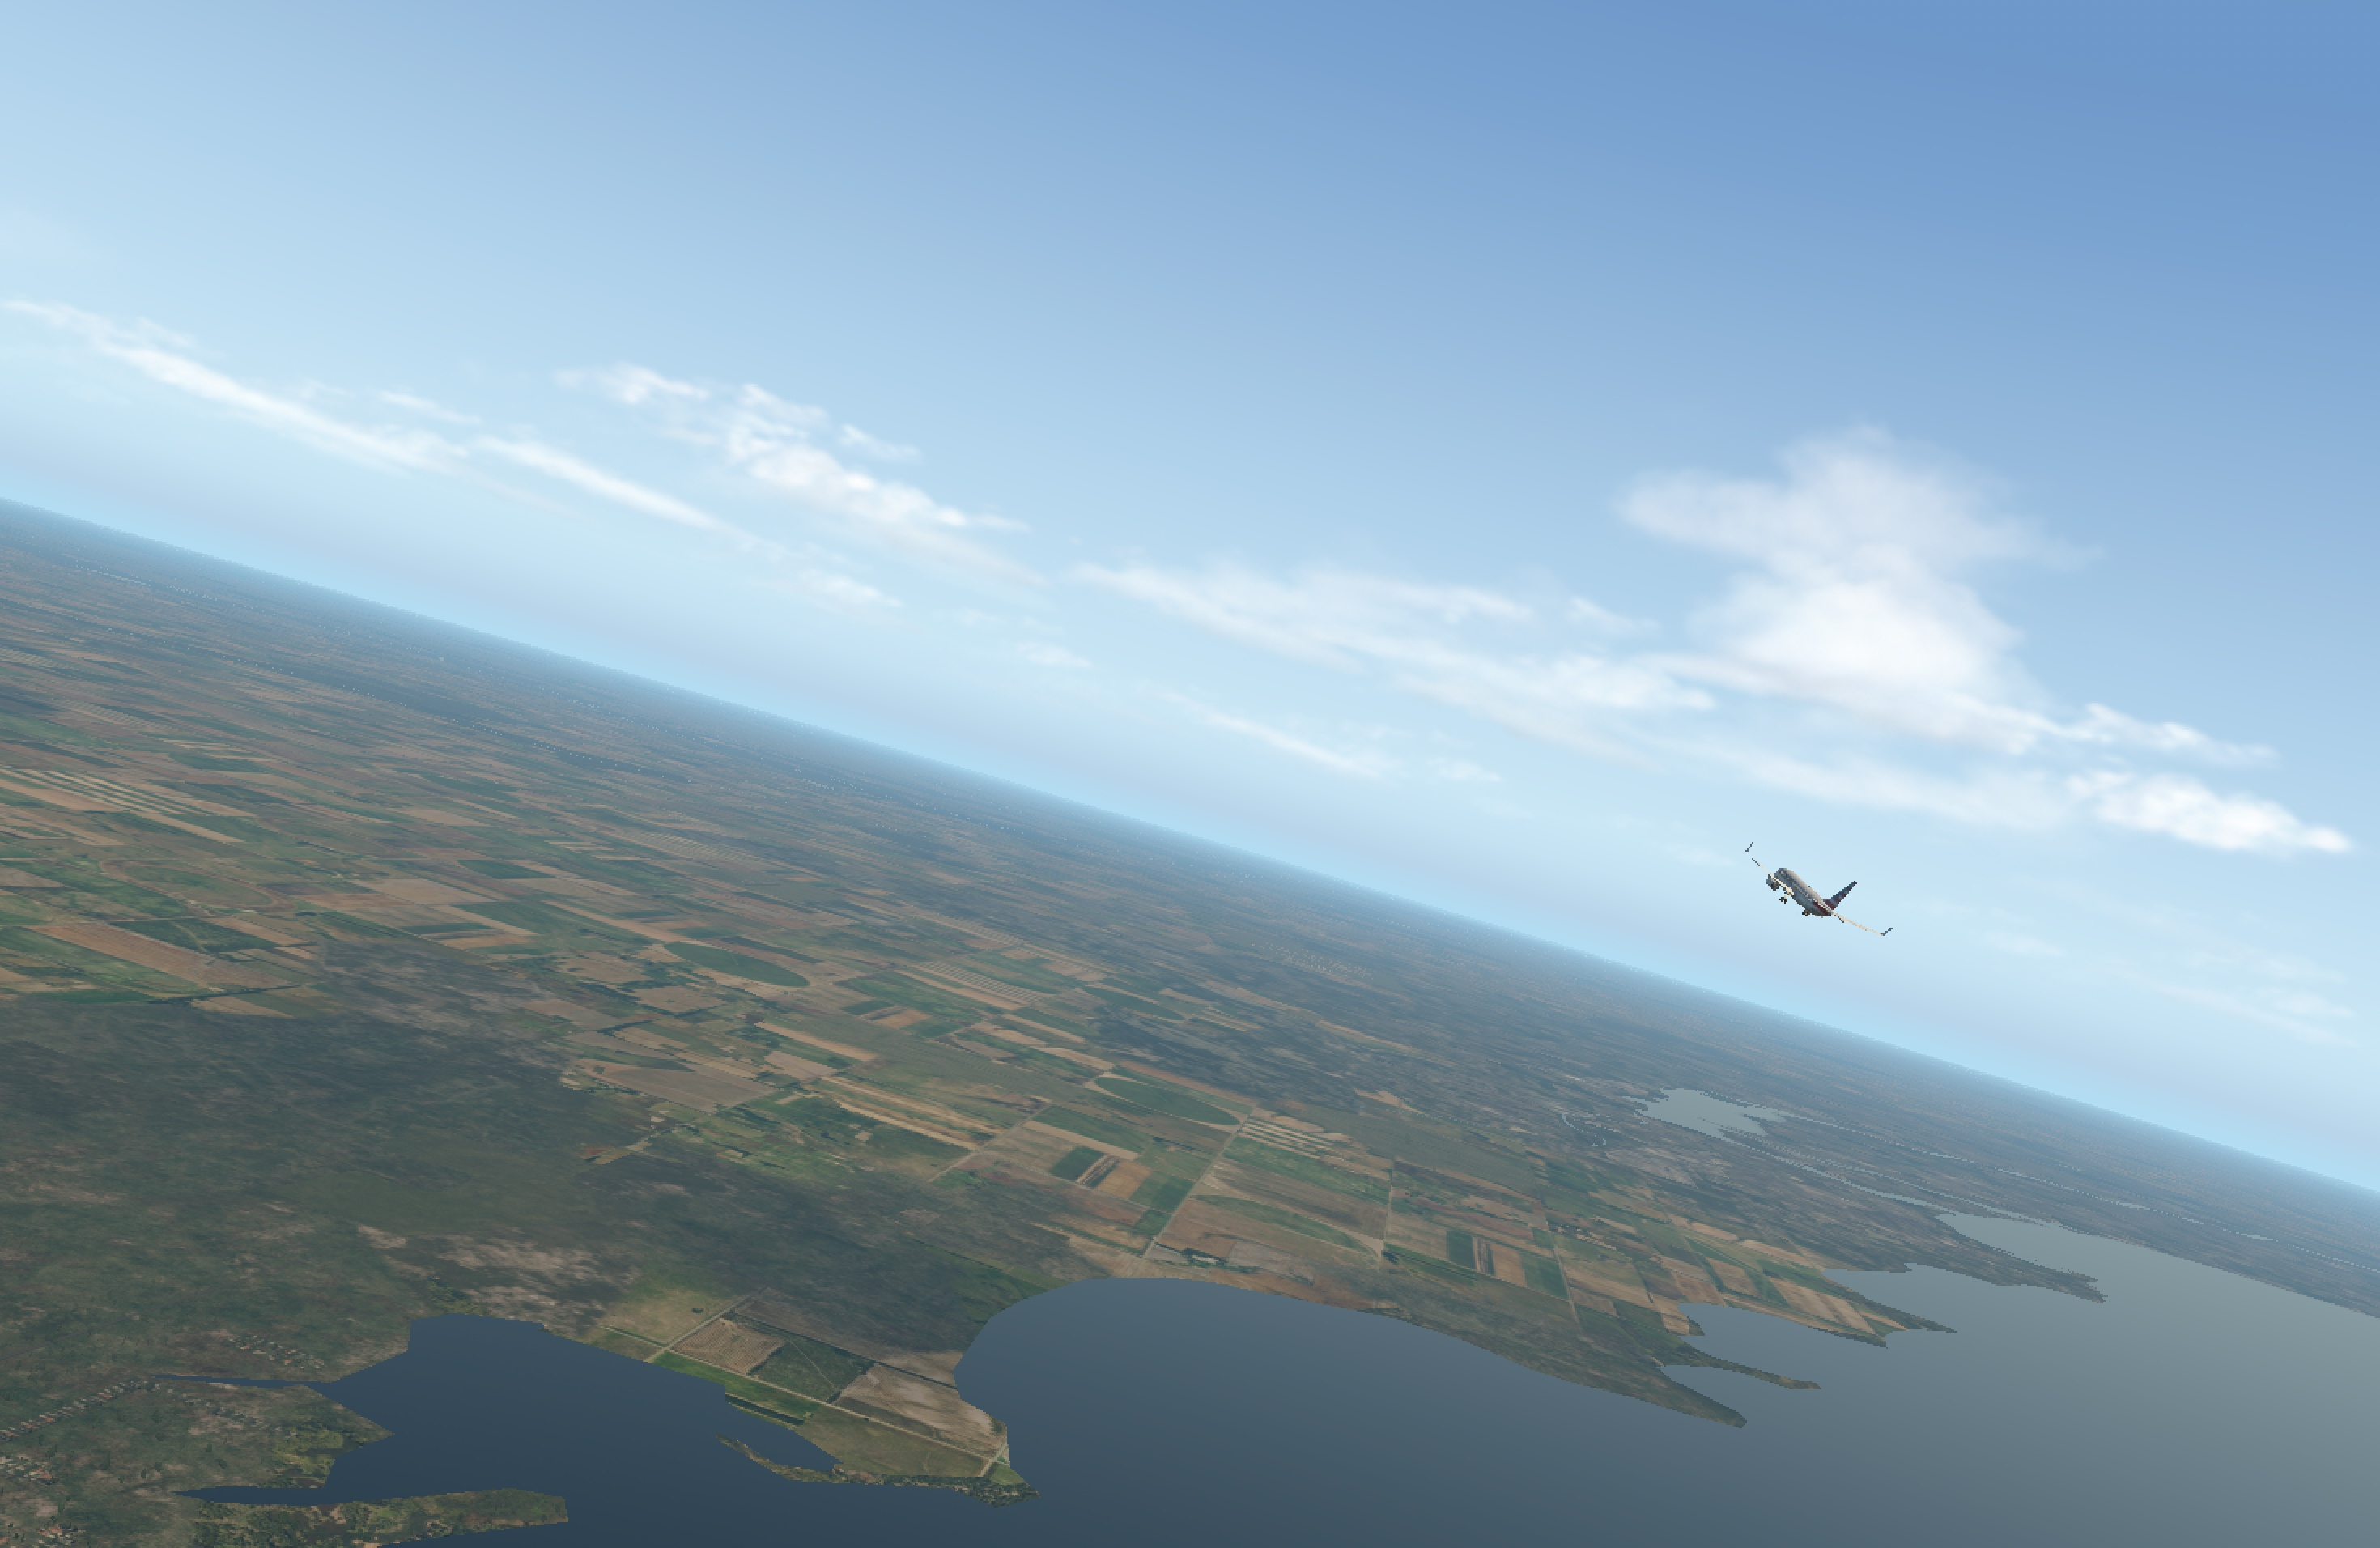aircraft: (1710, 861, 1891, 928)
